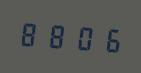eight: (18, 16, 43, 51), (44, 18, 69, 52)
six: (96, 21, 121, 56)
zero: (70, 20, 95, 54)
